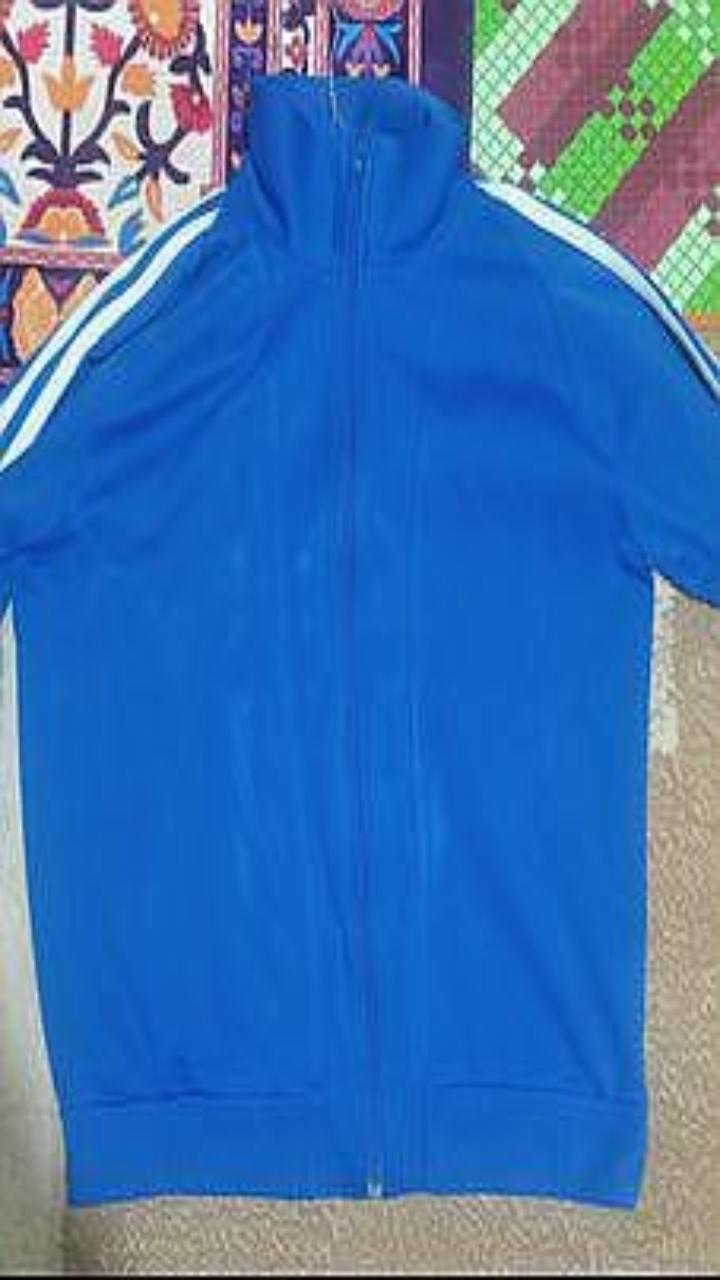Sports_Jacket: (0, 75, 719, 1206)
